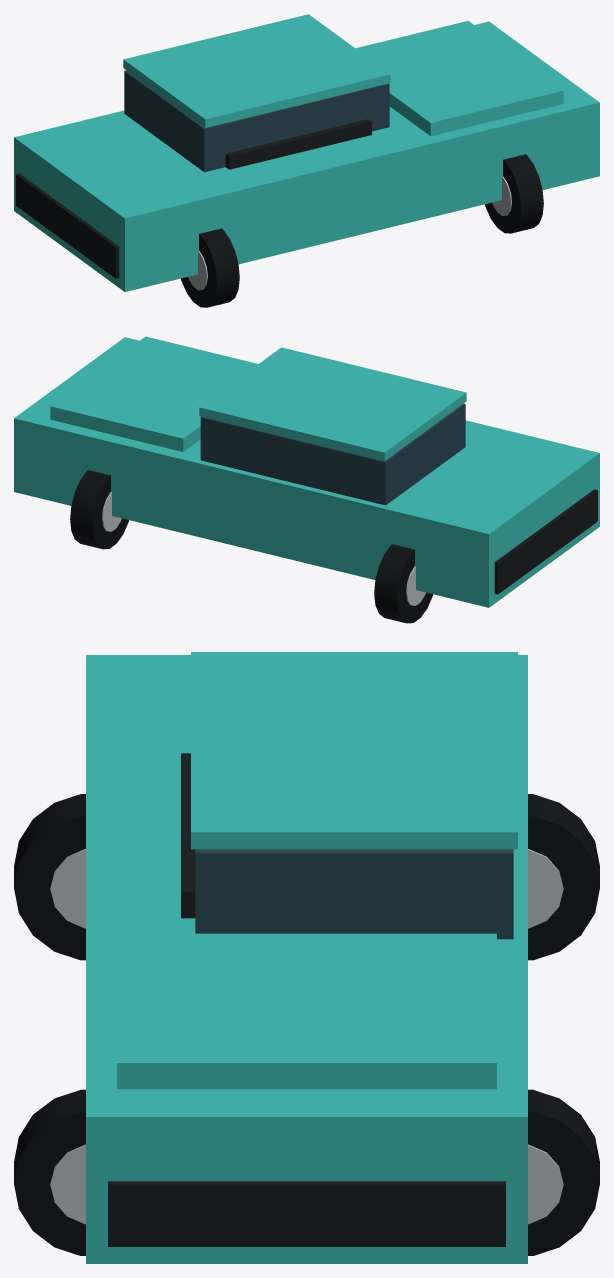
The model's file is chevy_monte_carlo.glb.
3 views of the same model, one above another, from view 1: azimuth 30°, elevation 25°; view 2: azimuth 150°, elevation 25°; view 3: azimuth 270°, elevation 25° (orthographic). The views are drawn at different scales.
Parts seen in each view (by area): view 1: body, roof, hood, cabin, rear_bumper, front_right_wheel, rear_right_wheel, interior; view 2: body, roof, hood, cabin, rear_bumper, front_left_wheel, rear_left_wheel; view 3: body, roof, hood, cabin, front_bumper, rear_left_wheel, rear_right_wheel, front_left_wheel, front_right_wheel, interior.
Boxes of the visible parts, bbox=[...] form: body: bbox=[14, 21, 599, 291]; roof: bbox=[123, 14, 390, 127]; hood: bbox=[356, 21, 563, 136]; cabin: bbox=[124, 70, 389, 172]; rear_bumper: bbox=[16, 173, 119, 278]; front_right_wheel: bbox=[485, 154, 543, 233]; rear_right_wheel: bbox=[181, 228, 239, 307]; interior: bbox=[225, 119, 371, 169]; body: bbox=[14, 337, 599, 607]; roof: bbox=[199, 347, 466, 461]; hood: bbox=[50, 336, 258, 451]; cabin: bbox=[200, 403, 465, 505]; rear_bumper: bbox=[494, 489, 597, 594]; front_left_wheel: bbox=[70, 470, 128, 549]; rear_left_wheel: bbox=[374, 544, 432, 623]; body: bbox=[86, 655, 527, 1263]; roof: bbox=[191, 652, 517, 849]; hood: bbox=[117, 933, 496, 1089]; cabin: bbox=[195, 849, 513, 939]; front_bumper: bbox=[108, 1181, 505, 1246]; rear_left_wheel: bbox=[528, 794, 599, 960]; rear_right_wheel: bbox=[14, 794, 85, 960]; front_left_wheel: bbox=[528, 1089, 599, 1255]; front_right_wheel: bbox=[14, 1089, 85, 1255]; interior: bbox=[181, 753, 195, 918].
Bounding box in the file's own units: 4.67 × 1.48 × 2.47.
